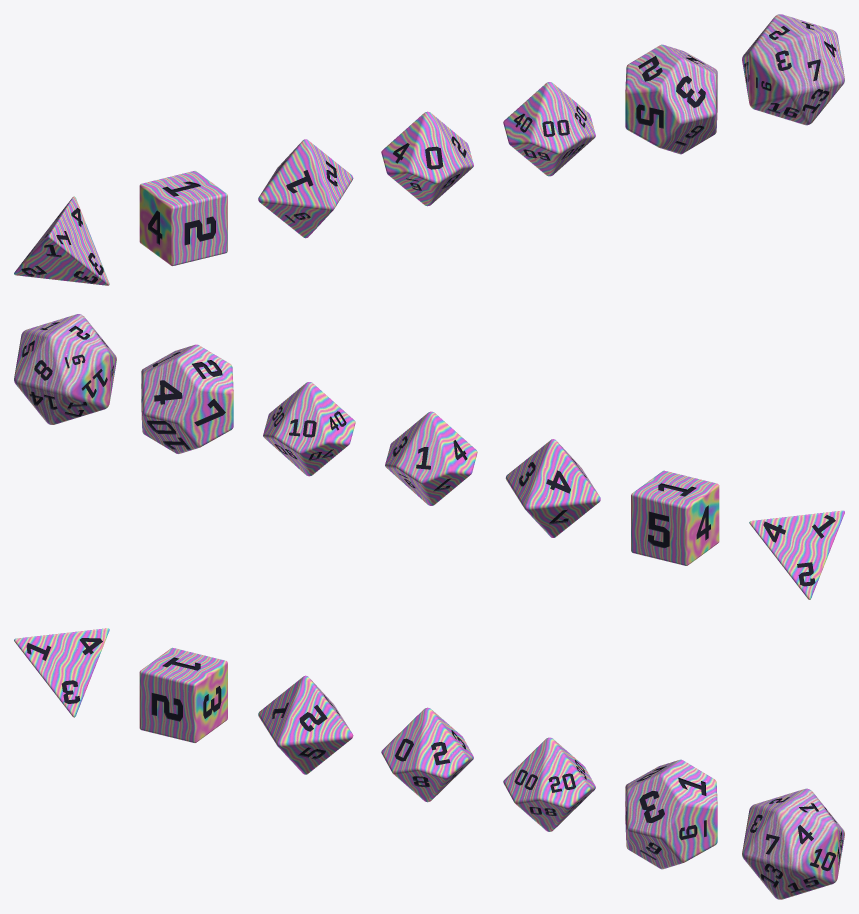
Rendered from hologram.glb.
3 renders of one model, top to bottom at view 1: azimuth 30°, elevation 25°; view 2: azimuth 150°, elevation 25°; view 3: azimuth 330°, elevation 25°, orthographic.
Visible parts, largest first — view 1: d20, d12, d6, d100, d10, d8, d4; view 2: d20, d12, d6, d100, d10, d8, d4; view 3: d20, d12, d6, d8, d10, d100, d4.
Part boxes in pixels (x1,y1,x2,y2): d20: [742, 14, 844, 125]; d12: [625, 44, 717, 154]; d6: [139, 171, 227, 266]; d100: [503, 82, 595, 176]; d10: [381, 111, 473, 206]; d8: [258, 139, 353, 238]; d4: [14, 196, 109, 285]; d20: [14, 314, 116, 424]; d12: [141, 344, 233, 453]; d6: [631, 470, 719, 565]; d100: [263, 382, 355, 476]; d10: [385, 411, 477, 505]; d8: [505, 439, 600, 537]; d4: [749, 510, 844, 599]; d20: [742, 788, 844, 899]; d12: [625, 759, 717, 869]; d6: [139, 647, 227, 742]; d8: [258, 675, 353, 774]; d10: [381, 707, 473, 802]; d100: [503, 737, 595, 831]; d4: [14, 628, 109, 717].
Size of the model in its own units: 21.14 by 2.47 by 2.47.
Materials: 14 (7 with a texture image).
